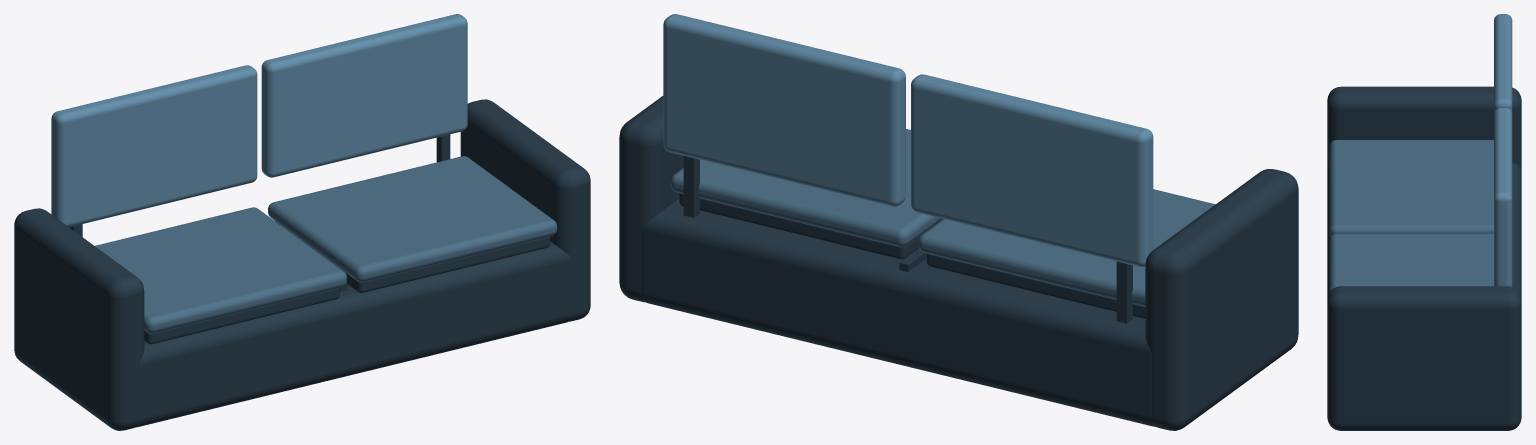
3 views of the same model, side by side, from view 1: azimuth 30°, elevation 25°; view 2: azimuth 150°, elevation 25°; view 3: azimuth 270°, elevation 25° (orthographic). The views are drawn at different scales.
Parts seen in each view (by area): view 1: modular-plinth, back-right, back-left, seat-right, modular-arm-left, seat-left, modular-arm-right, seat-support-right, seat-support-left; view 2: modular-plinth, back-right, back-left, modular-arm-left, seat-left, seat-right, modular-arm-right, seat-support-right, seat-support-left, back-support-left, back-support-right; view 3: modular-arm-right, seat-left, modular-arm-left, seat-right, back-right, back-left, modular-plinth.
Part boxes in pixels (x1,y1,x2,y2): modular-plinth: (135, 241, 571, 427); back-right: (261, 14, 467, 177); back-left: (51, 65, 257, 227); seat-right: (268, 156, 557, 282); modular-arm-left: (14, 208, 144, 430); seat-left: (95, 207, 346, 333); modular-arm-right: (460, 99, 590, 321); seat-support-right: (275, 221, 549, 292); seat-support-left: (144, 288, 339, 344); modular-plinth: (641, 199, 1155, 426); back-right: (663, 14, 905, 206); back-left: (911, 74, 1153, 266); modular-arm-left: (1145, 169, 1298, 430); seat-left: (918, 189, 1215, 306); seat-right: (670, 129, 942, 246); modular-arm-right: (619, 96, 683, 302); seat-support-right: (679, 193, 942, 259); seat-support-left: (927, 253, 1145, 318); back-support-left: (1116, 261, 1132, 323); back-support-right: (683, 156, 699, 217); modular-arm-right: (1327, 286, 1521, 430); seat-left: (1329, 140, 1493, 236); modular-arm-left: (1327, 86, 1521, 169); seat-right: (1329, 233, 1493, 291); back-right: (1494, 108, 1512, 286); back-left: (1494, 14, 1512, 113); modular-plinth: (1327, 163, 1521, 298).
Bounding box in the file's own units: 2.2 × 1.07 × 0.84.
